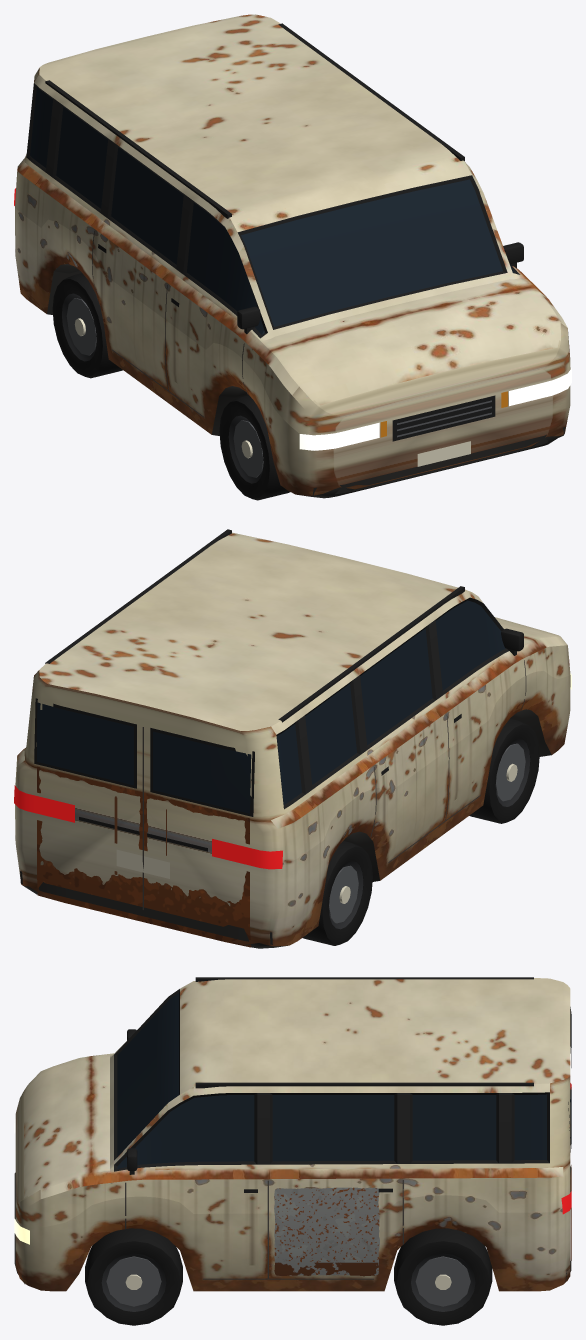
File: van.glb
The picture shows the model from 3 angles, top to bottom: view 1: azimuth 30°, elevation 25°; view 2: azimuth 150°, elevation 25°; view 3: azimuth 270°, elevation 25°; orthographic projection. The views are drawn at different scales.
Visible parts, largest first — view 1: body, wheel-front-right, wheel-back-right, wheel-front-right.1, wheel-back-right.1; view 2: body, wheel-front-right, wheel-back-right, wheel-back-right.1, wheel-front-right.1; view 3: body, wheel-back-left, wheel-front-left, wheel-back-left.1, wheel-front-left.1.
Boxes of the visible parts, left/top/right/bottom form: body: left=14, top=14, right=571, bottom=498; wheel-front-right: left=219, top=395, right=290, bottom=500; wheel-back-right: left=52, top=273, right=122, bottom=378; wheel-front-right.1: left=229, top=415, right=263, bottom=483; wheel-back-right.1: left=62, top=293, right=96, bottom=361; body: left=14, top=529, right=571, bottom=948; wheel-front-right: left=469, top=718, right=539, bottom=823; wheel-back-right: left=302, top=841, right=372, bottom=945; wheel-back-right.1: left=329, top=861, right=363, bottom=929; wheel-front-right.1: left=495, top=739, right=530, bottom=806; body: left=14, top=977, right=571, bottom=1291; wheel-back-left: left=394, top=1228, right=492, bottom=1325; wheel-front-left: left=85, top=1228, right=182, bottom=1325; wheel-back-left.1: left=411, top=1253, right=475, bottom=1311; wheel-front-left.1: left=101, top=1253, right=166, bottom=1311.
Size of the model in its own units: 1.5 by 1.28 by 2.74.
14 materials, 3 textured.
